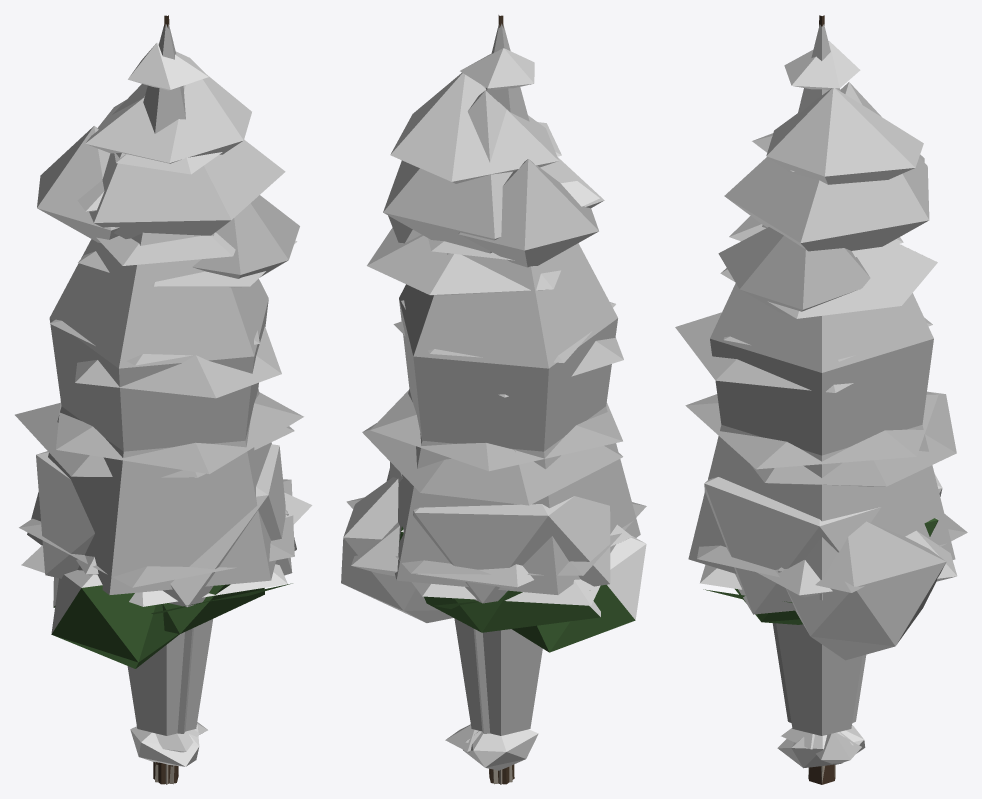
File: archetypes.f5d464d1.glb
3 views of the same model, side by side, from view 1: azimuth 30°, elevation 25°; view 2: azimuth 150°, elevation 25°; view 3: azimuth 270°, elevation 25° (orthographic).
Parts seen in each view (by area): view 1: pine_lod, araucaria_lod, tall, araucaria, tall_lod, pine, bloom, round, cypress, bloom_lod, rock, cypress_lod (+2 smaller); view 2: pine_lod, tall, round, pine, araucaria_lod, araucaria, tall_lod, bloom, cypress, round_lod, bloom_lod, rock (+1 smaller); view 3: pine_lod, round, tall, pine, tall_lod, araucaria_lod, araucaria, cypress, round_lod, shrub, rock, bloom_lod (+2 smaller).
Part boxes in pixels (<box>): pine_lod: <box>49,232,268,451</box>; araucaria_lod: <box>27,15,275,594</box>; tall: <box>37,75,299,784</box>; araucaria: <box>19,15,303,766</box>; tall_lod: <box>89,84,285,784</box>; pine: <box>15,180,297,784</box>; bloom: <box>51,570,264,668</box>; round: <box>36,444,296,607</box>; cypress: <box>127,619,212,735</box>; bloom_lod: <box>21,545,292,614</box>; rock: <box>130,725,199,766</box>; cypress_lod: <box>177,628,193,733</box>; pine_lod: <box>399,243,617,451</box>; tall: <box>388,73,598,784</box>; round: <box>341,462,610,622</box>; pine: <box>362,181,623,784</box>; araucaria_lod: <box>386,23,640,594</box>; araucaria: <box>346,15,646,575</box>; tall_lod: <box>383,90,604,784</box>; bloom: <box>399,526,646,652</box>; cypress: <box>454,618,542,735</box>; round_lod: <box>351,522,632,589</box>; bloom_lod: <box>411,579,600,608</box>; rock: <box>463,729,538,770</box>; pine_lod: <box>710,225,933,455</box>; round: <box>704,474,946,660</box>; tall: <box>718,88,924,783</box>; pine: <box>675,244,956,784</box>; tall_lod: <box>724,82,929,251</box>; araucaria_lod: <box>688,24,955,600</box>; araucaria: <box>685,15,967,592</box>; cypress: <box>776,623,862,735</box>; round_lod: <box>756,530,957,597</box>; shrub: <box>781,728,861,764</box>; rock: <box>777,725,865,768</box>; bloom_lod: <box>700,564,792,602</box>.
Size of the model in its own units: 6.75 by 18.6 by 6.46.
